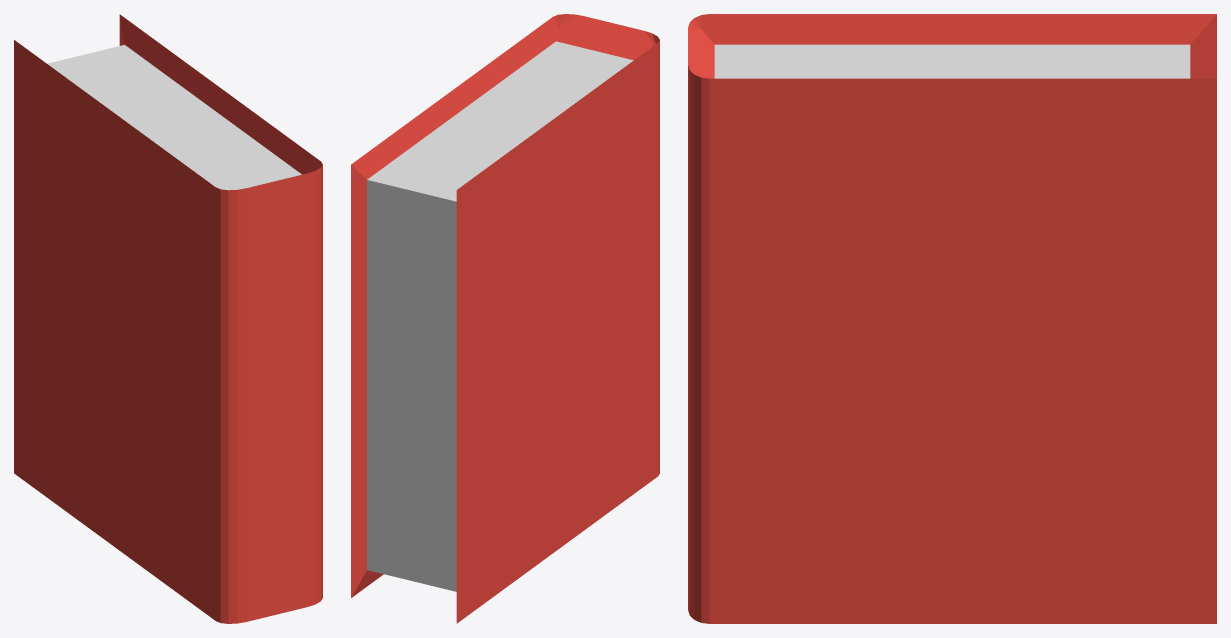
Rendered from red_book.glb.
3 renders of one model, left to right at view 1: azimuth 30°, elevation 25°; view 2: azimuth 150°, elevation 25°; view 3: azimuth 270°, elevation 25°, orthographic. The views are drawn at different scales.
Parts seen in each view (by area): view 1: book.002; view 2: book.002; view 3: book.002.
Boxes of the visible parts, bbox=[...] form: book.002: bbox=[14, 14, 322, 623]; book.002: bbox=[351, 14, 659, 623]; book.002: bbox=[688, 14, 1216, 623].
Bounding box in the file's own units: 0.1521 × 0.5984 × 0.5258.
